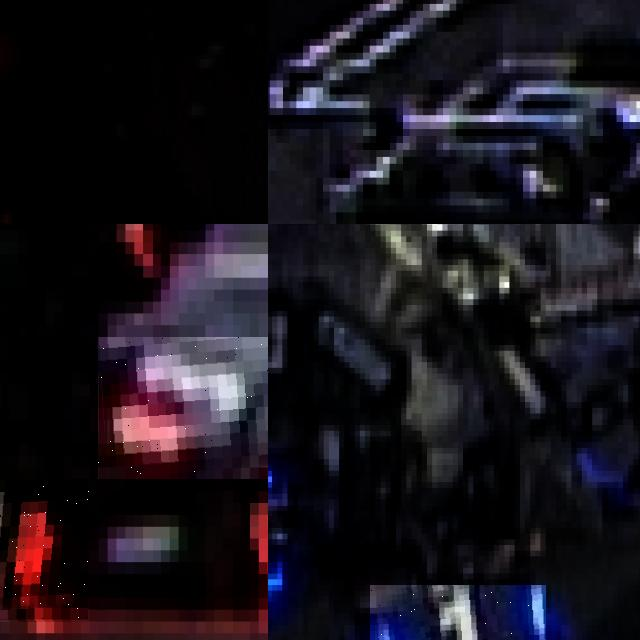B1: (370, 585, 545, 640)
R3: (98, 337, 268, 479), (0, 479, 89, 621)
